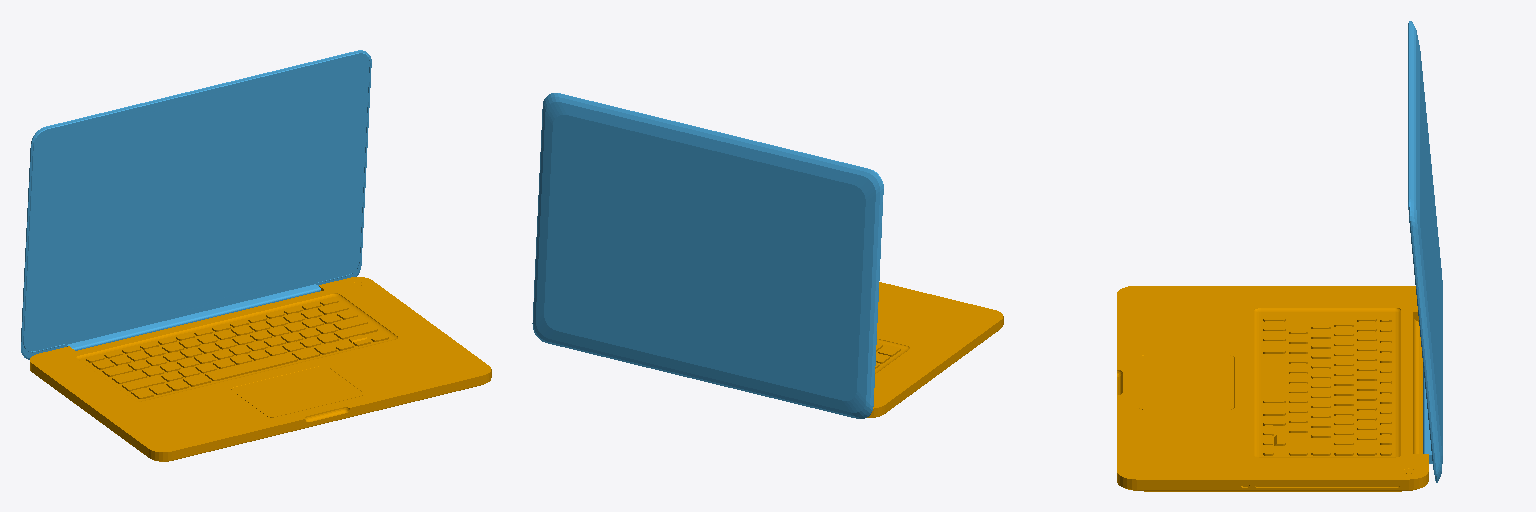
The robot description file, URDF, robot "laptop_10211":
<?xml version="1.0"?>
<robot name="laptop_10211">
  <link name="base_link">
    <inertial>
      <origin xyz="0 0 0" rpy="0 0 0"/>
      <mass value="1"/>
      <inertia ixx="0.001" ixy="0" ixz="0" iyy="0.001" iyz="0" izz="0.001"/>
    </inertial>
    <visual>
      <origin xyz="0 0 0" rpy="0 0 0"/>
      <geometry>
        <mesh filename="meshes/base_link.obj" scale="1 1 1"/>
      </geometry>
    </visual>
    <collision>
      <origin xyz="0 0 0" rpy="0 0 0"/>
      <geometry>
        <mesh filename="meshes/base_link.obj" scale="1 1 1"/>
      </geometry>
    </collision>
  </link>
  <link name="moving_link">
    <inertial>
      <origin xyz="0 0 0" rpy="0 0 0"/>
      <mass value="1"/>
      <inertia ixx="0.001" ixy="0" ixz="0" iyy="0.001" iyz="0" izz="0.001"/>
    </inertial>
    <visual>
      <origin xyz="0 -0.2471471481 0.0077060404" rpy="0 0 0"/>
      <geometry>
        <mesh filename="meshes/moving_link.obj" scale="1 1 1"/>
      </geometry>
    </visual>
    <collision>
      <origin xyz="0 -0.2471471481 0.0077060404" rpy="0 0 0"/>
      <geometry>
        <mesh filename="meshes/moving_link.obj" scale="1 1 1"/>
      </geometry>
    </collision>
  </link>
  <joint name="laptop_10211_joint" type="revolute">
    <parent link="base_link"/>
    <child link="moving_link"/>
    <origin xyz="0 0.2471471481 -0.0077060404" rpy="0 0 0"/>
    <axis xyz="1 0 0"/>
    <limit lower="-0.6981317008" upper="0" effort="100" velocity="10"/>
  </joint>
</robot>

--- Facts derived from the render (not from the file) ---
Views: 3 orthographic renders of the robot side by side, from view 1: azimuth 30°, elevation 25°; view 2: azimuth 150°, elevation 25°; view 3: azimuth 270°, elevation 25°.
Robot: laptop_10211 — 2 links, 1 joints (1 revolute); root link base_link; default pose: every joint at zero.
Visible links, largest first — view 1: moving_link, base_link; view 2: moving_link, base_link; view 3: base_link, moving_link.
Link boxes in pixels (<box>): moving_link: <box>21,50,371,359</box>; base_link: <box>30,277,491,461</box>; moving_link: <box>532,93,883,418</box>; base_link: <box>867,282,1003,417</box>; base_link: <box>1117,286,1428,491</box>; moving_link: <box>1408,21,1442,482</box>.
Bounding box of the posed robot: 1.07 × 0.7599 × 0.7444 m (x, y, z).
Meshes: 2 distinct files referenced, 2 mesh visuals loaded (2 OBJ).
